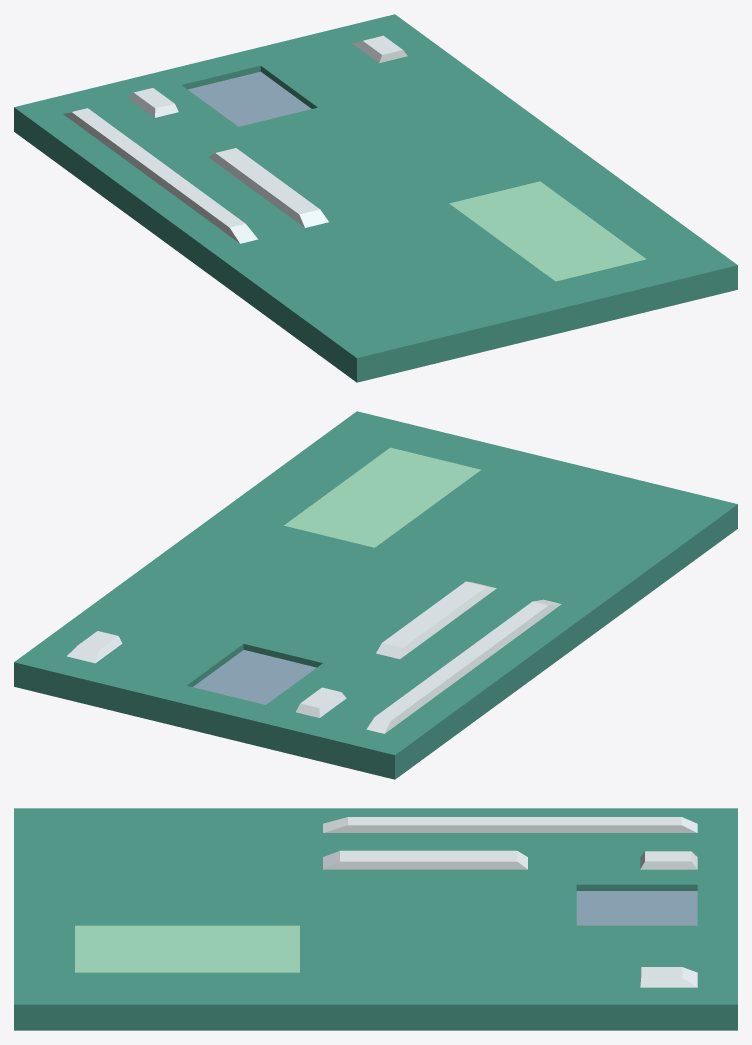
File: Prop_CreditCard.fbx
3 renders of one model, top to bottom at view 1: azimuth 30°, elevation 25°; view 2: azimuth 150°, elevation 25°; view 3: azimuth 270°, elevation 25°, orthographic. The views are drawn at different scales.
Visible parts, largest first — view 1: Cube.379; view 2: Cube.379; view 3: Cube.379.
Boxes of the visible parts, x1=… form: Cube.379: x1=14, y1=14, x2=737, y2=382; Cube.379: x1=14, y1=411, x2=737, y2=779; Cube.379: x1=14, y1=808, x2=737, y2=1030.
Size of the model in its own units: 10.31 by 0.8167 by 16.06.
